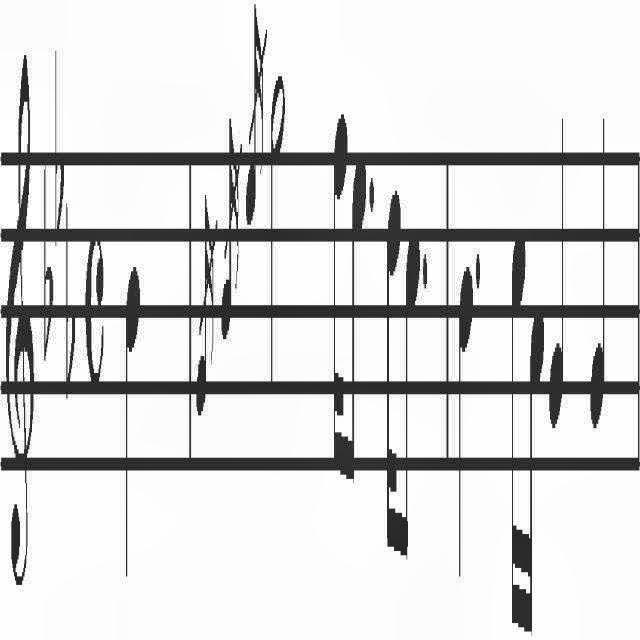Bass-clef: (2, 0, 34, 640)
Bemol: (38, 145, 54, 393), (62, 184, 78, 420), (50, 40, 64, 244)
Eighth-note: (402, 205, 420, 577), (349, 122, 367, 486)
Half-note: (269, 60, 291, 436)
Quarter-note: (122, 254, 142, 628), (456, 245, 476, 610), (546, 119, 566, 453), (592, 102, 608, 434)
Sixteenth-note: (506, 222, 526, 640), (384, 159, 402, 589), (329, 91, 347, 496), (527, 270, 545, 640)
